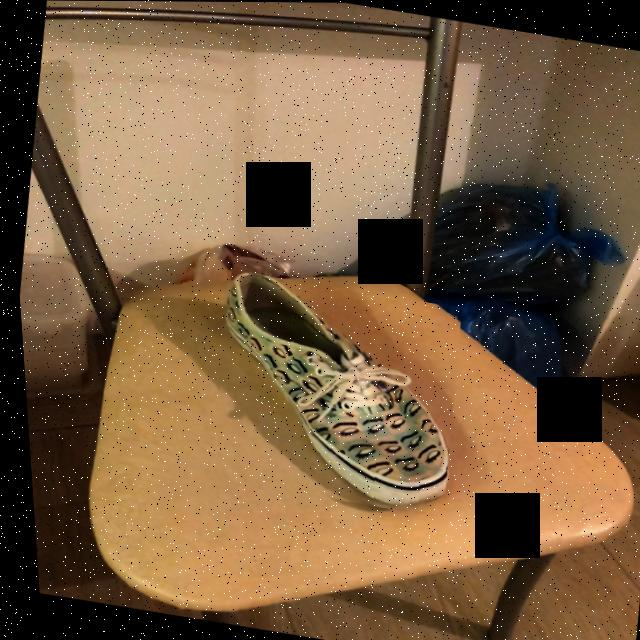shoe: (220, 274, 442, 509)
